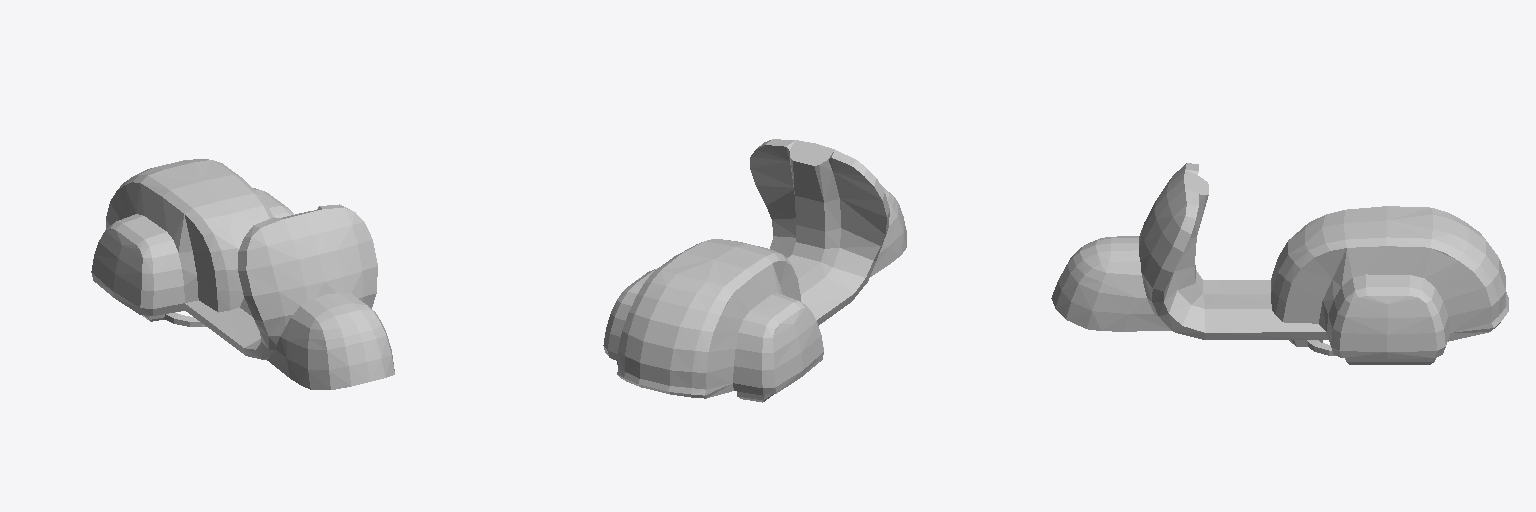
The model's file is Body.obj.
3 renders of one model, left to right at view 1: azimuth 30°, elevation 25°; view 2: azimuth 150°, elevation 25°; view 3: azimuth 270°, elevation 25°, orthographic.
Parts seen in each view (by area): view 1: Body; view 2: Body; view 3: Body.
Boxes of the visible parts, x1,y1,x2,y2 form: Body: [91, 159, 394, 389]; Body: [603, 139, 906, 402]; Body: [1051, 163, 1508, 364].
Size of the model in its own units: 0.2088 by 0.1727 by 0.4634.